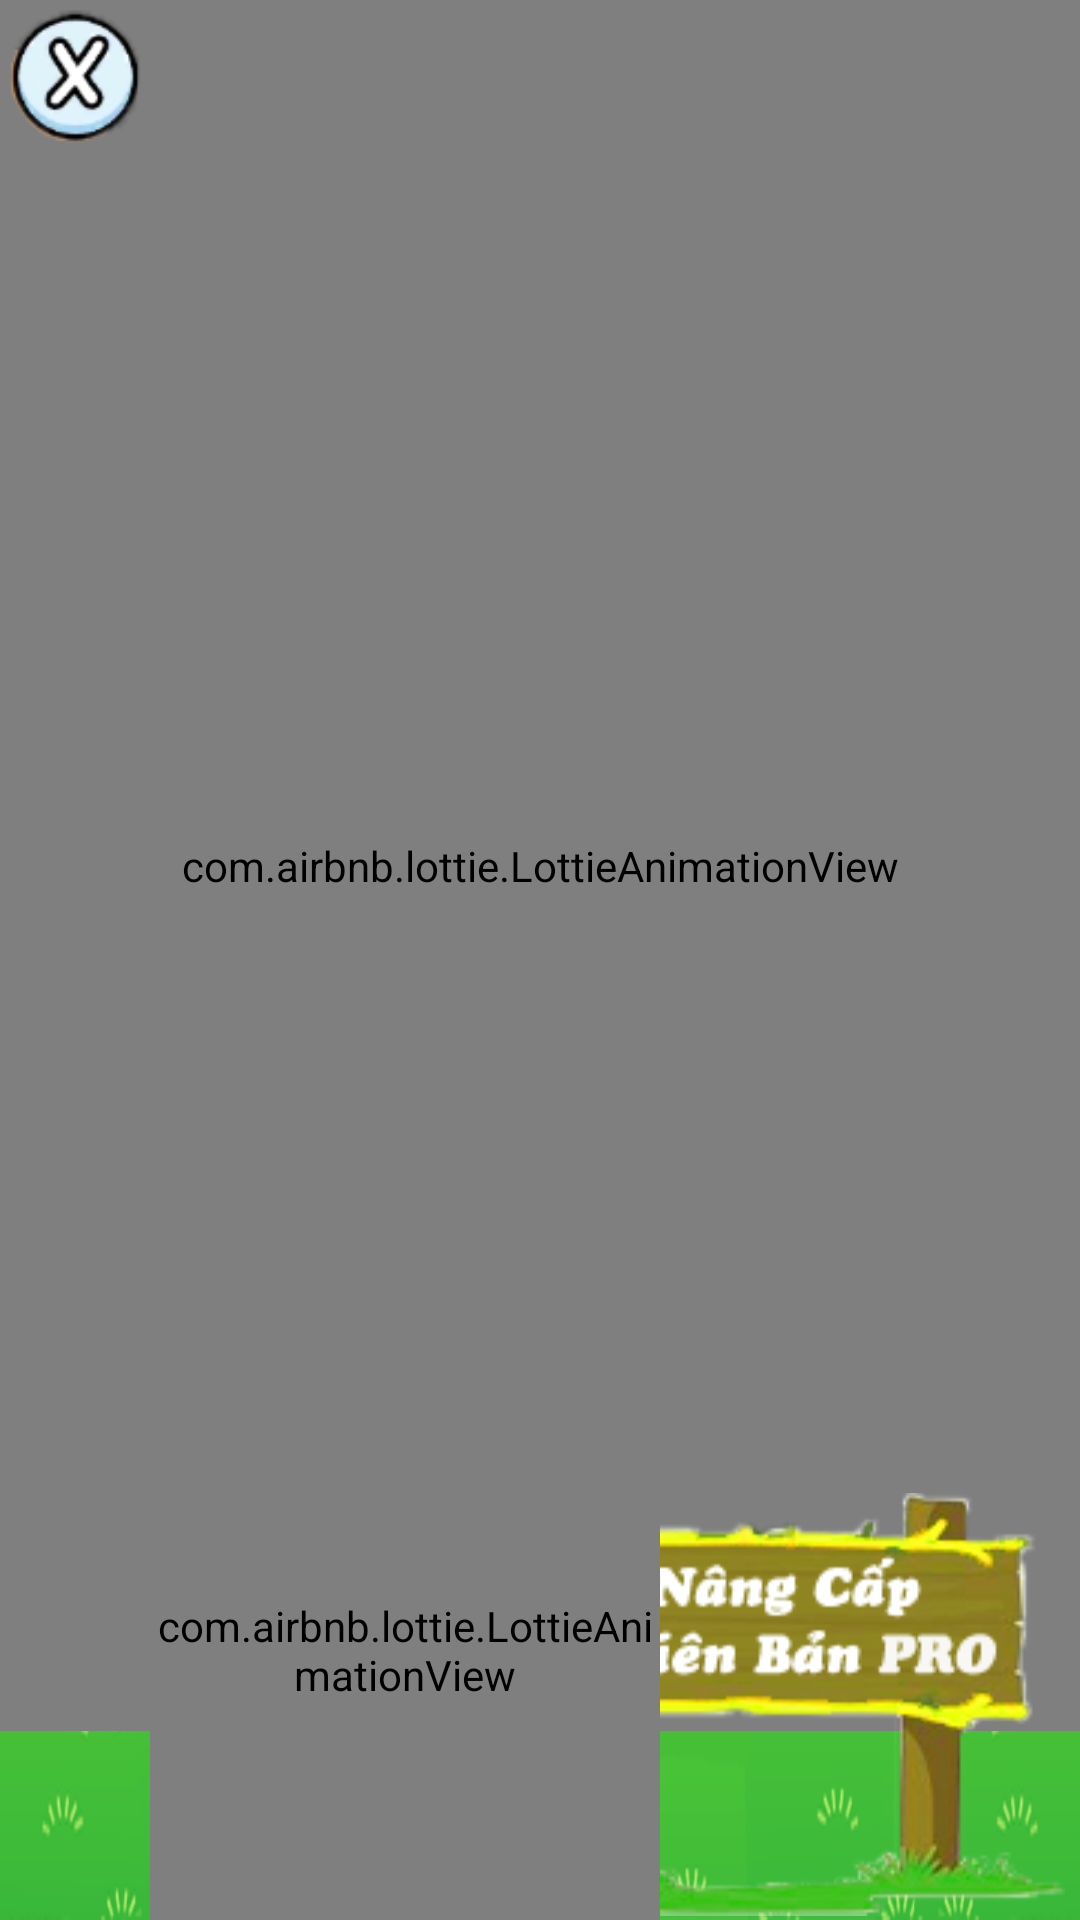

Where icons sit on this 1080 x 1920 app screen, as (x1, y1, x2, y2):
close: (11, 12, 139, 141)
